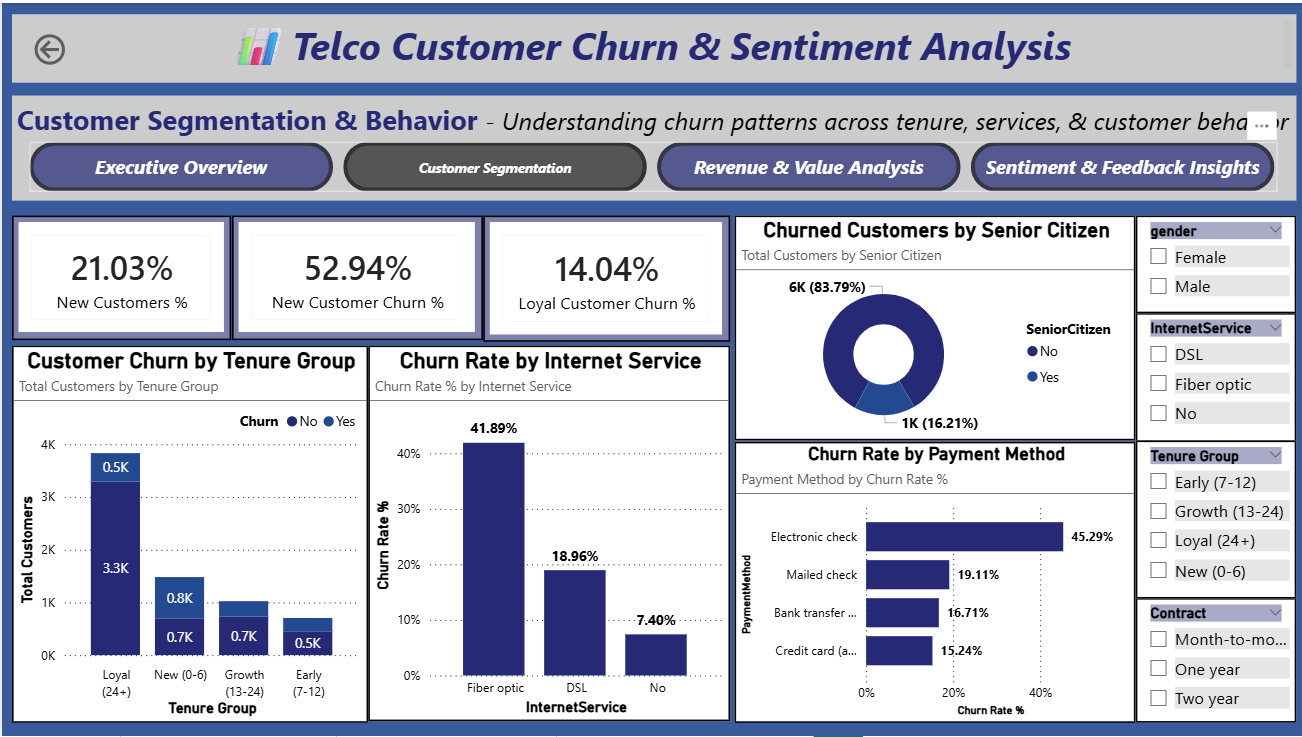

The dashboard page shown, as its layout file describes it:
{"tool":"powerbi","page":{"name":"Customer Segmentation","canvas":[1280,720],"ordinal":1},"visuals":[{"type":"textbox","title":"Executive Overview -","box":[9.6,90.6,1261.1,102.9],"z":0},{"type":"cardVisual","title":"Total Customers","fields":{"Data":["Telco_Data_Cleaned.New Customers %"]},"box":[10,208.2,215.3,122.6],"z":1000},{"type":"cardVisual","fields":{"Data":["Telco_Data_Cleaned.New Customer Churn %"]},"box":[225.3,208.2,246.6,122.6],"z":2000},{"type":"cardVisual","fields":{"Data":["Telco_Data_Cleaned.Loyal Customer Churn %"]},"box":[471.9,208.2,242.4,124],"z":3000},{"type":"donutChart","title":"Churned Customers by Senior Citizen","fields":{"Y":["Telco_Data_Cleaned.Total Customers"],"Category":["Telco_Data_Cleaned.SeniorCitizen"]},"box":[719,208.6,393.8,220.9],"z":4000},{"type":"columnChart","title":"Customer Churn by Tenure Group","fields":{"Category":["Telco_Data_Cleaned.Tenure Group"],"Series":["Telco_Data_Cleaned.Churn"],"Y":["Telco_Data_Cleaned.Total Customers"]},"box":[10,336.5,349.3,370.7],"z":5000},{"type":"clusteredColumnChart","title":"Churn Rate by Internet Service","fields":{"Y":["Telco_Data_Cleaned.Churn Rate %"],"Category":["Telco_Data_Cleaned.InternetService"]},"box":[359.5,336.2,355.4,369.1],"z":6000},{"type":"slicer","fields":{"Values":["Telco_Data_Cleaned.Contract"]},"box":[1112.9,584.6,157.8,122.1],"z":7000},{"type":"slicer","fields":{"Values":["Telco_Data_Cleaned.InternetService"]},"box":[1112.9,304.6,157.8,126.2],"z":8000},{"type":"slicer","fields":{"Values":["Telco_Data_Cleaned.Tenure Group"]},"box":[1112.9,429.5,157.8,155.1],"z":9000},{"type":"textbox","box":[9.6,11,1261.1,67.2],"z":10000},{"type":"actionButton","box":[27.4,26.1,100.2,39.8],"z":11000},{"type":"pageNavigator","box":[27.4,135.8,1225.4,49.4],"z":12000},{"type":"slicer","fields":{"Values":["Telco_Data_Cleaned.gender"]},"box":[1112.9,208.6,157.8,96.1],"z":13000},{"type":"barChart","title":"Churn Rate by Payment Method","fields":{"Category":["Telco_Data_Cleaned.PaymentMethod"],"Y":["Telco_Data_Cleaned.Churn Rate %"]},"box":[719,430.9,393.8,275.8],"z":14000}]}

Visuals, with their boxes in screenshot pixels (x1, y1, x2, y2), scaled from the page's 1280x720 canvas onto the 1302x737 screenshot:
"Executive Overview -" textbox: 10:93:1293:198
"Total Customers" cardVisual: 10:213:229:339
cardVisual - Telco_Data_Cleaned.New Customer Churn %: 229:213:480:339
cardVisual - Telco_Data_Cleaned.Loyal Customer Churn %: 480:213:727:340
"Churned Customers by Senior Citizen" donutChart: 731:214:1132:440
"Customer Churn by Tenure Group" columnChart: 10:344:365:724
"Churn Rate by Internet Service" clusteredColumnChart: 366:344:727:722
slicer - Telco_Data_Cleaned.Contract: 1132:598:1293:723
slicer - Telco_Data_Cleaned.InternetService: 1132:312:1293:441
slicer - Telco_Data_Cleaned.Tenure Group: 1132:440:1293:598
textbox: 10:11:1293:80
actionButton: 28:27:130:67
pageNavigator: 28:139:1274:190
slicer - Telco_Data_Cleaned.gender: 1132:214:1293:312
"Churn Rate by Payment Method" barChart: 731:441:1132:723
